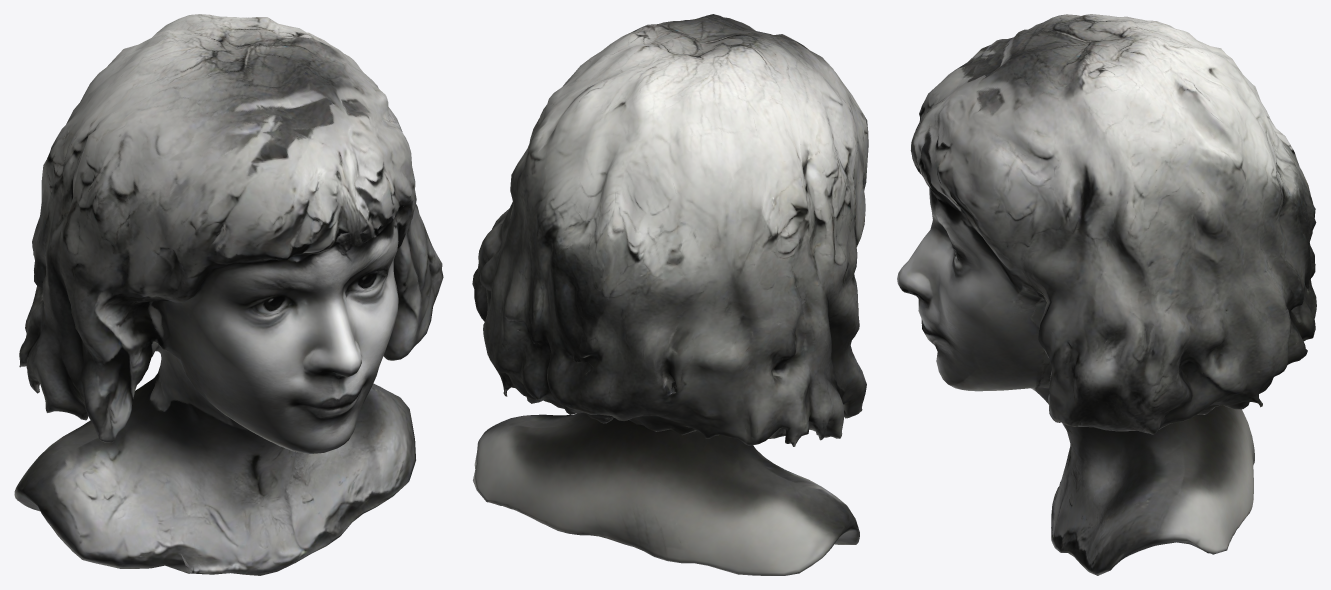
Rendered from Child_Sculpture_Bust_0414173641_texture.glb.
3 views of the same model, side by side, from view 1: azimuth 30°, elevation 25°; view 2: azimuth 150°, elevation 25°; view 3: azimuth 270°, elevation 25° (orthographic). The views are drawn at different scales.
Size of the model in its own units: 1.56 by 1.98 by 1.52.
Materials: 1 (1 with a texture image).
